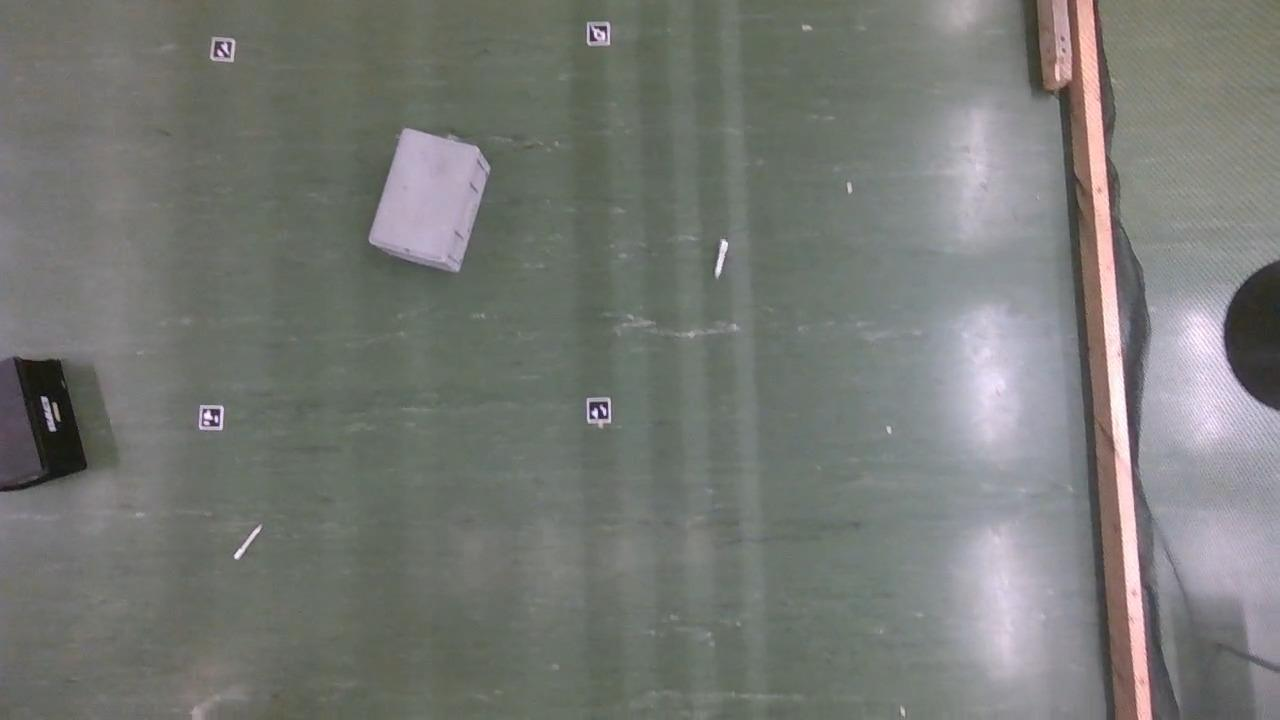probes: (233, 524, 261, 560), (714, 238, 727, 277)
rako: (366, 126, 494, 278), (0, 356, 88, 491)
